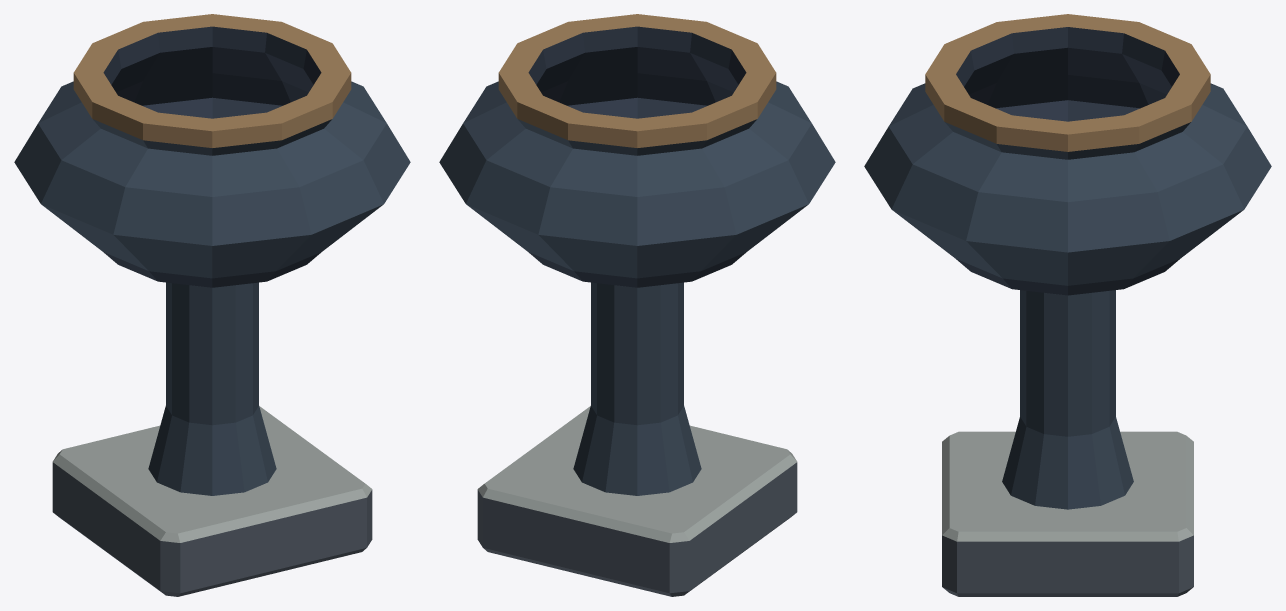
Rendered from brazier-small.glb.
3 views of the same model, side by side, from view 1: azimuth 30°, elevation 25°; view 2: azimuth 150°, elevation 25°; view 3: azimuth 270°, elevation 25° (orthographic). The views are drawn at different scales.
Visible parts, largest first — view 1: brazier-small__body; view 2: brazier-small__body; view 3: brazier-small__body.
Boxes of the visible parts, box(x1,y1,x2,y2) form: brazier-small__body: box(14, 14, 410, 596); brazier-small__body: box(439, 14, 835, 596); brazier-small__body: box(864, 14, 1271, 596).
Size of the model in its own units: 0.68 by 0.87 by 0.68.
